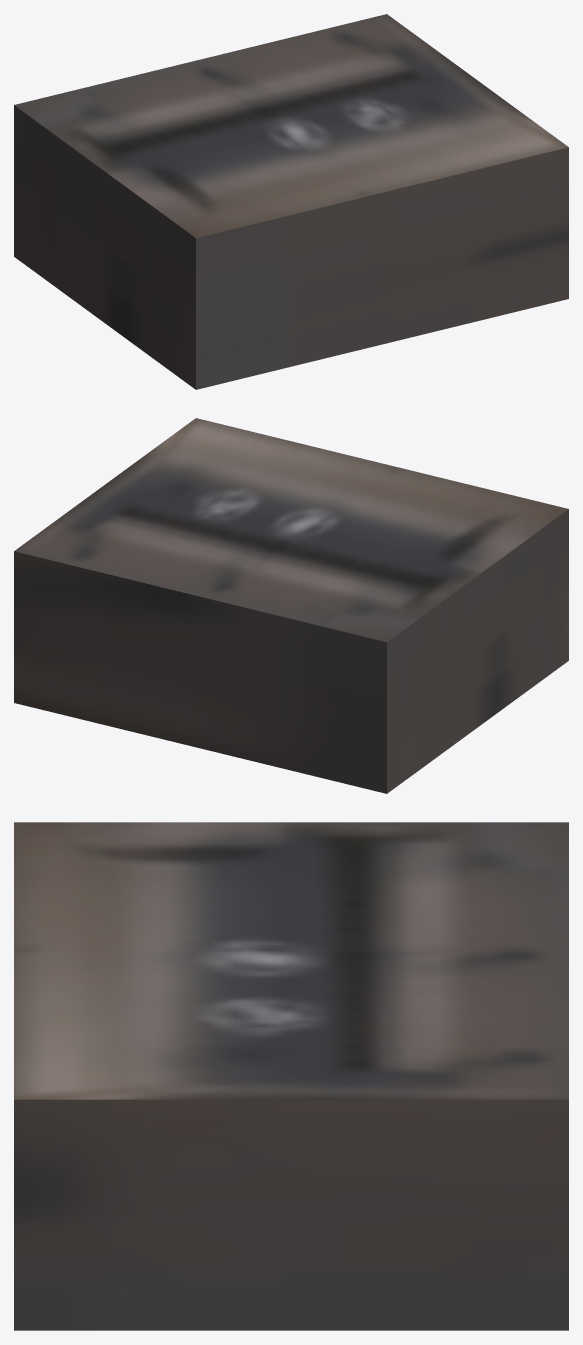
The model's file is shredder-top-2.fbx.
The picture shows the model from 3 angles, top to bottom: view 1: azimuth 30°, elevation 25°; view 2: azimuth 150°, elevation 25°; view 3: azimuth 270°, elevation 25°; orthographic projection. The views are drawn at different scales.
Parts seen in each view (by area): view 1: Cube; view 2: Cube; view 3: Cube.
Part boxes in pixels (box(x1,y1,x2,y2)): Cube: box(14, 14, 568, 389); Cube: box(14, 418, 568, 793); Cube: box(14, 822, 568, 1330).
Bounding box in the file's own units: 200 × 77.74 × 169.
1 material, 1 textured.
